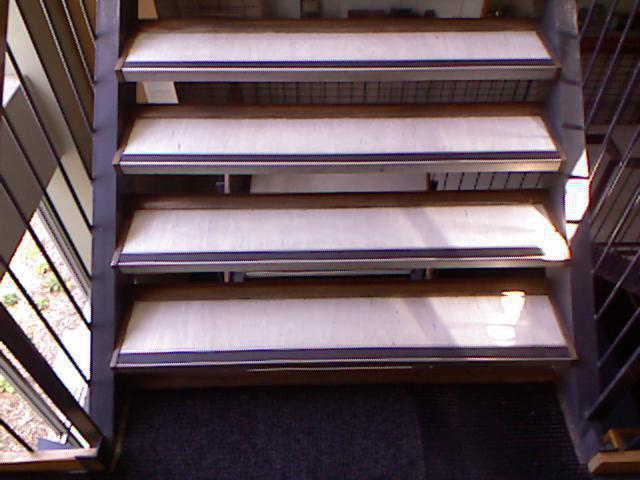Escaleras: (124, 31, 578, 405), (585, 233, 639, 336)
